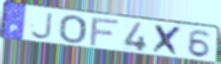4: (122, 21, 149, 53)
6: (186, 29, 212, 59)
F: (88, 17, 121, 47)
J: (29, 12, 54, 41)
O: (58, 15, 88, 45)
X: (151, 23, 184, 58)
